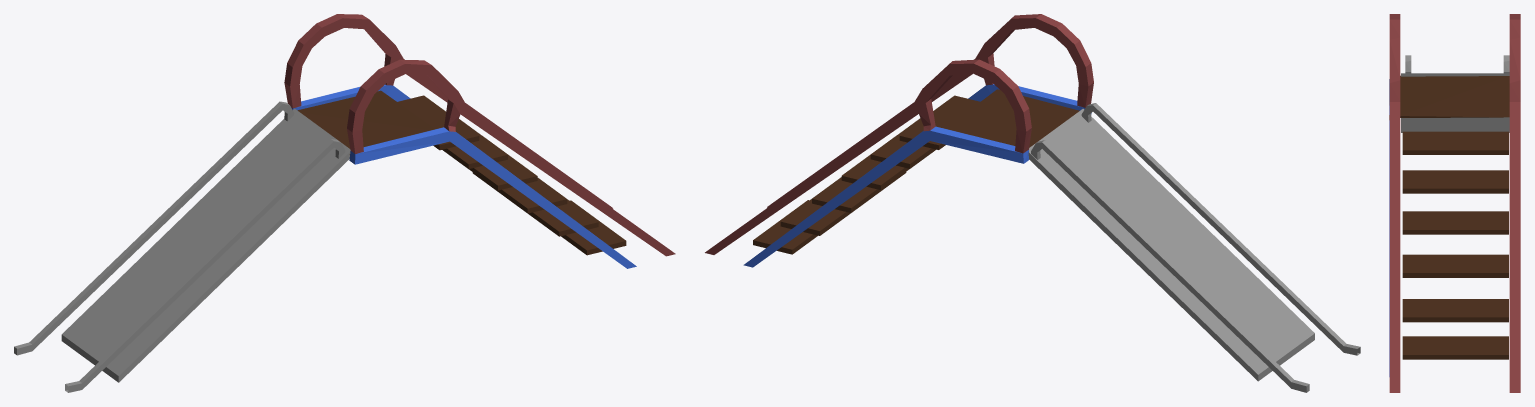
File: zjezdzalnia2.fbx
The picture shows the model from 3 angles, left to right: view 1: azimuth 30°, elevation 25°; view 2: azimuth 150°, elevation 25°; view 3: azimuth 270°, elevation 25°; orthographic projection. The views are drawn at different scales.
Visible parts, largest first — view 1: Cube; view 2: Cube; view 3: Cube.
Part boxes in pixels (bbox=[...]): Cube: bbox=[14, 14, 675, 392]; Cube: bbox=[705, 14, 1360, 392]; Cube: bbox=[1389, 14, 1520, 392].
Size of the model in its own units: 107 by 224 by 543.
